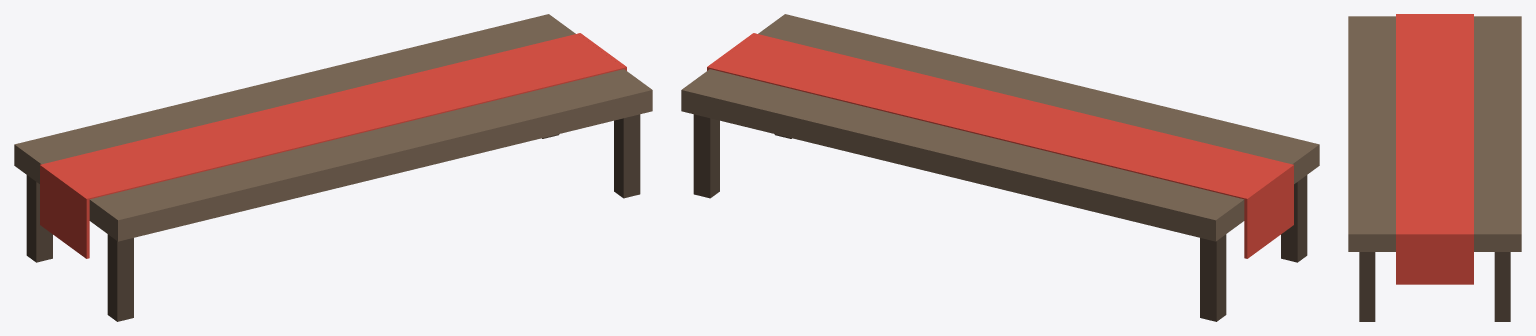
Rendered from furnature3.glb.
3 renders of one model, left to right at view 1: azimuth 30°, elevation 25°; view 2: azimuth 150°, elevation 25°; view 3: azimuth 270°, elevation 25°, orthographic. The views are drawn at different scales.
Parts seen in each view (by area): view 1: Cube-convcol.001, Cube.001, Cube.021-convcol, Cube.002; view 2: Cube-convcol.001, Cube.001, Cube.021-convcol, Cube.002; view 3: Cube-convcol.001, Cube.001, Cube.002, Cube.021-convcol.
Boxes of the visible parts, box(x1,y1,x2,y2) form: Cube-convcol.001: box(14, 14, 652, 241); Cube.001: box(43, 33, 624, 202); Cube.021-convcol: box(26, 114, 640, 321); Cube.002: box(40, 33, 626, 258); Cube-convcol.001: box(681, 14, 1319, 241); Cube.001: box(709, 33, 1290, 199); Cube.021-convcol: box(693, 114, 1307, 321); Cube.002: box(707, 33, 1293, 258); Cube-convcol.001: box(1348, 16, 1521, 251); Cube.001: box(1396, 15, 1473, 233); Cube.002: box(1396, 14, 1473, 284); Cube.021-convcol: box(1359, 252, 1510, 321).
Size of the model in its own units: 12.29 by 2.37 by 4.08.
